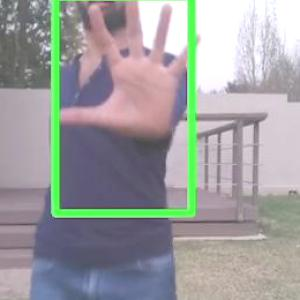follow_hand: (46, 0, 208, 143)
